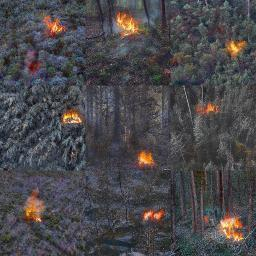Small fire: (203, 203, 251, 250), (15, 183, 52, 228), (139, 196, 170, 232), (131, 144, 164, 172), (190, 96, 226, 121), (54, 107, 90, 130), (41, 15, 72, 41), (226, 35, 249, 63)
